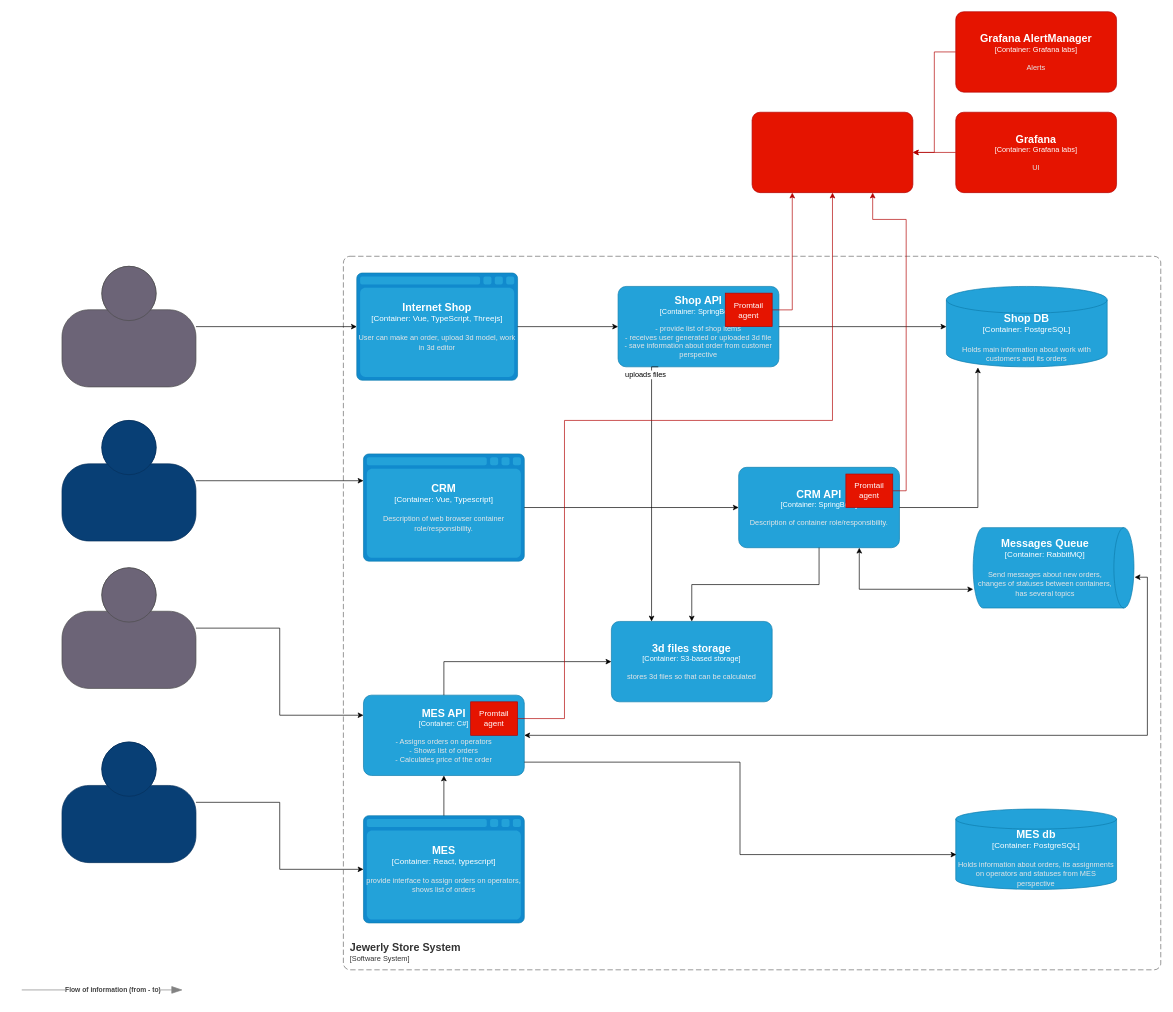
The diagram is 1173 pixels wide and 1012 high, and some of its shapes have lost their labels. The shapes that lost their labels are listed below. From the top down, each one's centre as x and y in pixels, then its label:
the point at 832,152: Grafana Loki [Container: Grafana labs] log aggregation system
the point at 128,326: Customer [Person] Description of external person.
the point at 128,480: Seller [Person] Operates with order, confirms manufacturing for the user
the point at 128,627: API user [Person] Description of external person.
the point at 128,802: Operator [Person] Takes order in work, manufactures jewerly
